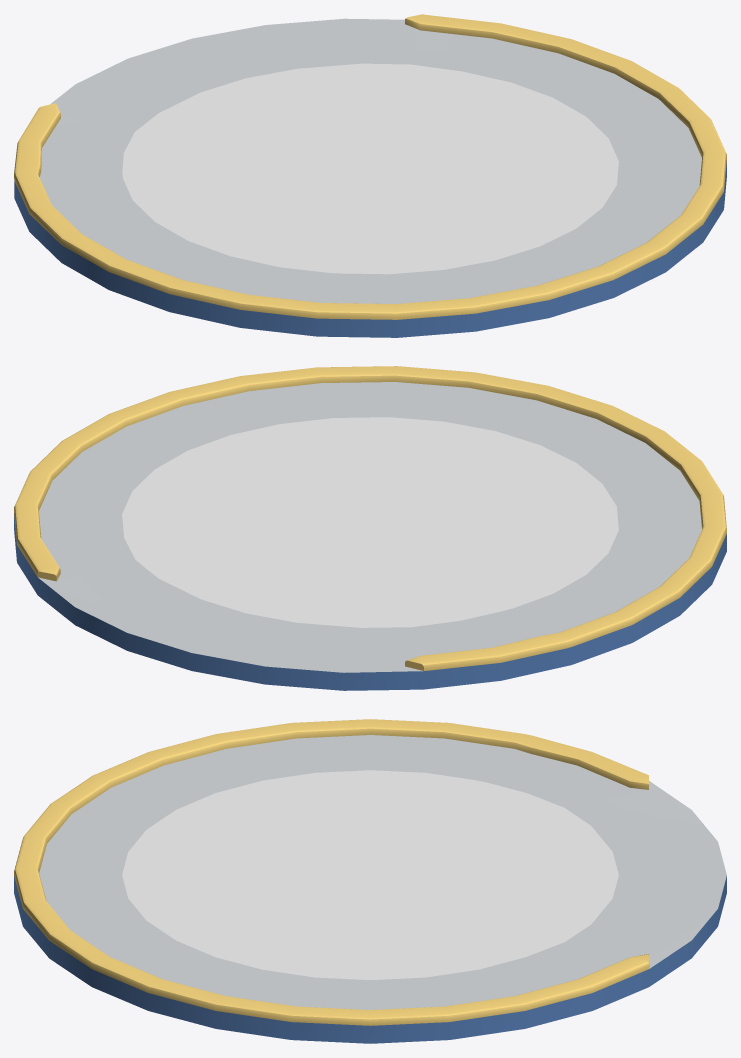
The model's file is finish_platform.fbx.
The picture shows the model from 3 angles, top to bottom: view 1: azimuth 30°, elevation 25°; view 2: azimuth 150°, elevation 25°; view 3: azimuth 270°, elevation 25°; orthographic projection.
Visible parts, largest first — view 1: pCylinder6; view 2: pCylinder6; view 3: pCylinder6.
Part boxes in pixels (x1,y1,x2,y2): pCylinder6: (14,14,726,337); pCylinder6: (14,366,726,690); pCylinder6: (14,719,726,1043).
Bounding box in the file's own units: 1121 × 43.23 × 1121.
Materials: 1 (1 with a texture image).
